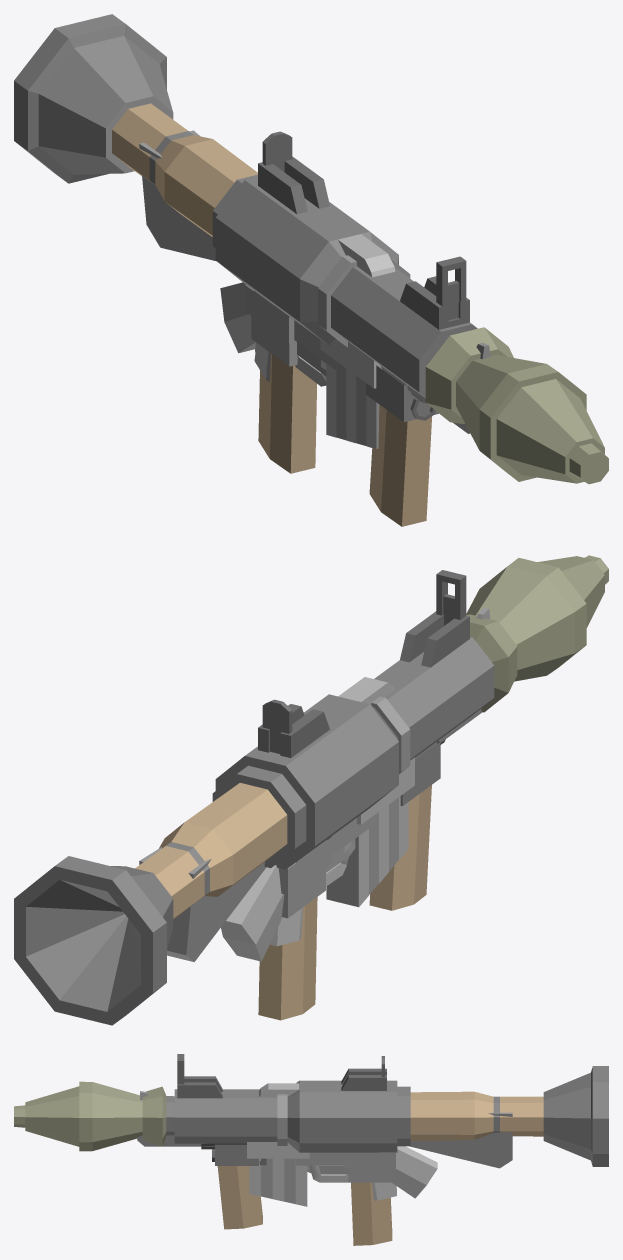
File: LowPolyGuns.fbx
3 views of the same model, one above another, from view 1: azimuth 30°, elevation 25°; view 2: azimuth 150°, elevation 25°; view 3: azimuth 270°, elevation 25° (orthographic). The views are drawn at different scales.
Parts seen in each view (by area): view 1: rocketlauncher, rocketlauncher_rocket, machinegun, shotgun; view 2: rocketlauncher, rocketlauncher_rocket, machinegun, shotgun; view 3: rocketlauncher, rocketlauncher_rocket, machinegun, shotgun.
Boxes of the visible parts, bbox=[...] form: rocketlauncher: bbox=[14, 14, 477, 526]; rocketlauncher_rocket: bbox=[425, 327, 608, 484]; machinegun: bbox=[139, 130, 490, 448]; shotgun: bbox=[220, 282, 435, 420]; rocketlauncher: bbox=[14, 570, 494, 1025]; rocketlauncher_rocket: bbox=[466, 555, 608, 712]; machinegun: bbox=[139, 607, 490, 962]; shotgun: bbox=[221, 739, 445, 961]; rocketlauncher: bbox=[174, 1054, 608, 1245]; rocketlauncher_rocket: bbox=[14, 1081, 174, 1151]; machinegun: bbox=[137, 1083, 512, 1206]; shotgun: bbox=[201, 1143, 437, 1198].
Size of the model in its own units: 0.0253 by 0.0555 by 0.1614.
